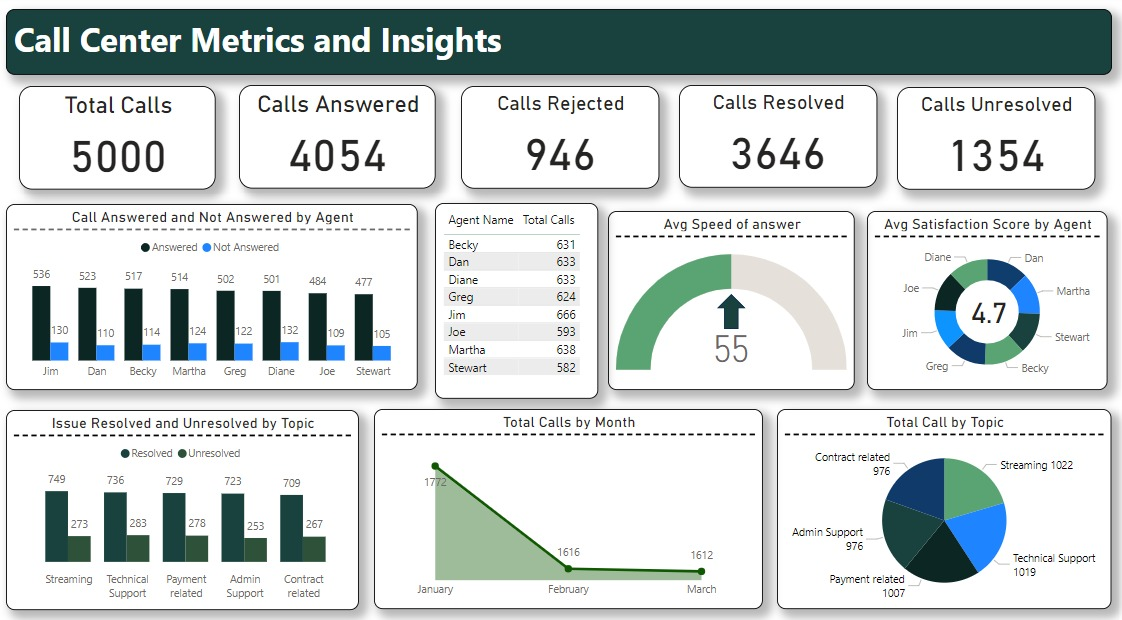

What the dashboard file says about the page in this screenshot:
{"tool":"powerbi","page":{"name":"Page 1","canvas":[1280,720],"ordinal":0},"visuals":[{"type":"textbox","box":[9.7,14.5,1259.5,74.8],"z":0},{"type":"card","title":"Total Calls","fields":{"Values":["Sheet1.Call Id"]},"box":[24.1,102.5,224.4,118.2],"z":1000},{"type":"card","title":"Calls Answered ","fields":{"Values":["Sheet1.Call Answered"]},"box":[275.1,101.3,224.4,118.2],"z":2000},{"type":"card","title":"Calls Rejected","fields":{"Values":["Sheet1.Call Not Answered"]},"box":[527.2,102.5,225.6,117],"z":3000},{"type":"card","title":"Calls Resolved","fields":{"Values":["Sheet1.Call Resolved"]},"box":[775.7,101.3,225.6,117],"z":4000},{"type":"card","title":"Calls Unresolved","fields":{"Values":["Sheet1.Call Unresolved"]},"box":[1024.3,103.8,225.6,117],"z":5000},{"type":"clusteredColumnChart","title":"Call Answered and Not Answered by Agent","fields":{"Category":["Sheet1.Agent"],"Y":["Sheet1.Call Answered","Sheet1.Call Not Answered"]},"box":[9.7,236.5,469.3,212.3],"z":6000},{"type":"donutChart","title":"Avg Satisfaction Score by Agent","fields":{"Y":["Sheet1.Satisfaction rating"],"Category":["Sheet1.Agent"]},"box":[990.5,244.9,273.9,203.9],"z":7000},{"type":"card","fields":{"Values":["Sheet1.Target Rating"]},"box":[1101.5,339,54.3,38.6],"z":8000},{"type":"pieChart","title":"Total Call by Topic","fields":{"Category":["Sheet1.Topic"],"Y":["Sheet1.Call Id"]},"box":[887.9,470.5,381.2,228],"z":9000},{"type":"gauge","title":"Avg Speed of answer ","fields":{"Y":["Sheet1.Speed of answer in seconds"]},"box":[694.9,244.9,281.1,203.9],"z":10000},{"type":"tableEx","fields":{"Values":["Sheet1.Agent","Sheet1.Call Id"]},"box":[498.3,235.3,185.8,223.2],"z":11000},{"type":"areaChart","title":"Total Calls by Month","fields":{"Y":["Sheet1.Call Id"],"Category":["Sheet1.Date.Variation.Date Hierarchy.Month"]},"box":[428.3,470.5,442.8,228],"z":12000},{"type":"clusteredColumnChart","title":"Issue Resolved and Unresolved by Topic","fields":{"Category":["Sheet1.Topic"],"Y":["Sheet1.Call Resolved","Sheet1.Call Unresolved"]},"box":[9.7,471.7,401.7,228],"z":13000},{"type":"shape","box":[819.2,339,32.6,39.8],"z":15000}]}

Visuals, with their boxes in screenshot pixels (x1, y1, x2, y2), scaled from the page's 1280x720 canvas onto the 1122x620 screenshot:
textbox: {"x1": 9, "y1": 12, "x2": 1113, "y2": 77}
"Total Calls" card: {"x1": 21, "y1": 88, "x2": 218, "y2": 190}
"Calls Answered " card: {"x1": 241, "y1": 87, "x2": 438, "y2": 189}
"Calls Rejected" card: {"x1": 462, "y1": 88, "x2": 660, "y2": 189}
"Calls Resolved" card: {"x1": 680, "y1": 87, "x2": 878, "y2": 188}
"Calls Unresolved" card: {"x1": 898, "y1": 89, "x2": 1096, "y2": 190}
"Call Answered and Not Answered by Agent" clusteredColumnChart: {"x1": 9, "y1": 204, "x2": 420, "y2": 386}
"Avg Satisfaction Score by Agent" donutChart: {"x1": 868, "y1": 211, "x2": 1108, "y2": 386}
card - Sheet1.Target Rating: {"x1": 966, "y1": 292, "x2": 1013, "y2": 325}
"Total Call by Topic" pieChart: {"x1": 778, "y1": 405, "x2": 1112, "y2": 601}
"Avg Speed of answer " gauge: {"x1": 609, "y1": 211, "x2": 856, "y2": 386}
tableEx - Sheet1.Agent x Sheet1.Call Id: {"x1": 437, "y1": 203, "x2": 600, "y2": 395}
"Total Calls by Month" areaChart: {"x1": 375, "y1": 405, "x2": 764, "y2": 601}
"Issue Resolved and Unresolved by Topic" clusteredColumnChart: {"x1": 9, "y1": 406, "x2": 361, "y2": 603}
shape: {"x1": 718, "y1": 292, "x2": 747, "y2": 326}
